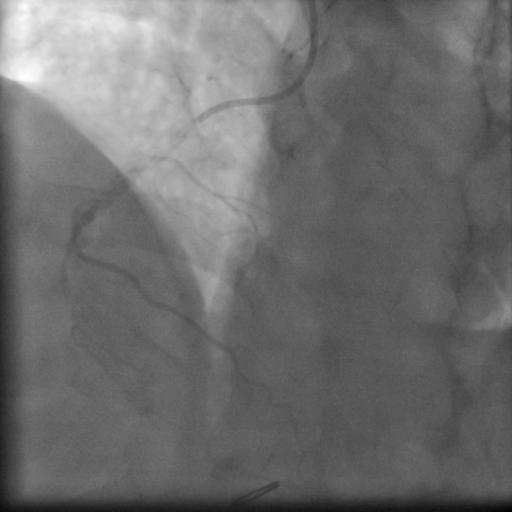Stenosis: (144, 120, 199, 157)
